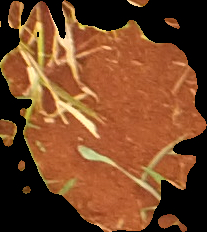soil: (1, 3, 204, 230)
